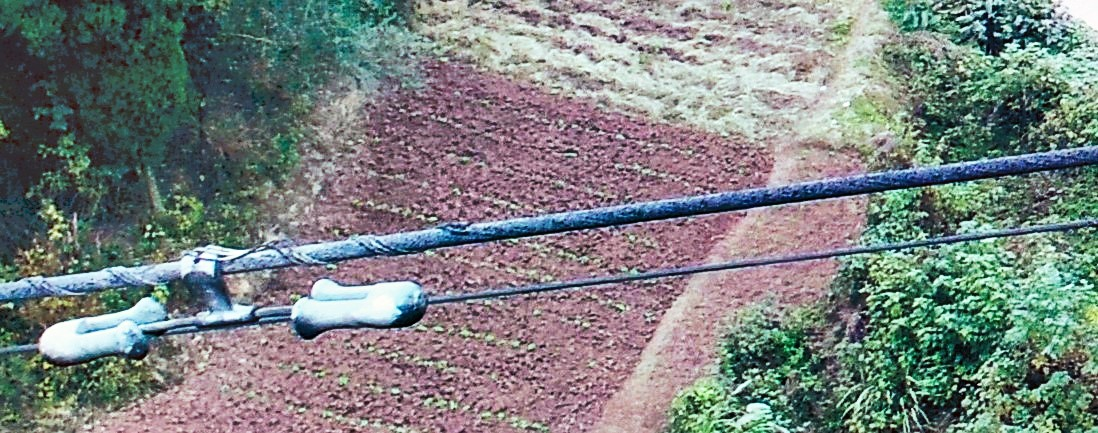Shockproof hammer: (28, 214, 438, 375)
